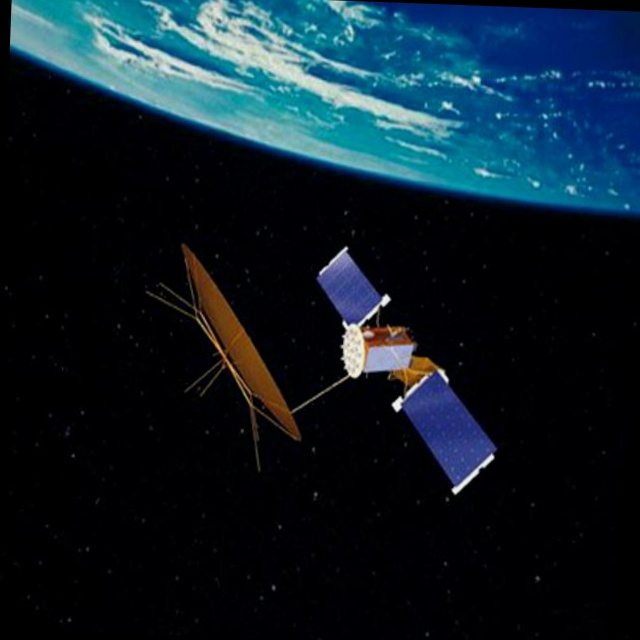medium_debris: (134, 209, 517, 561)
